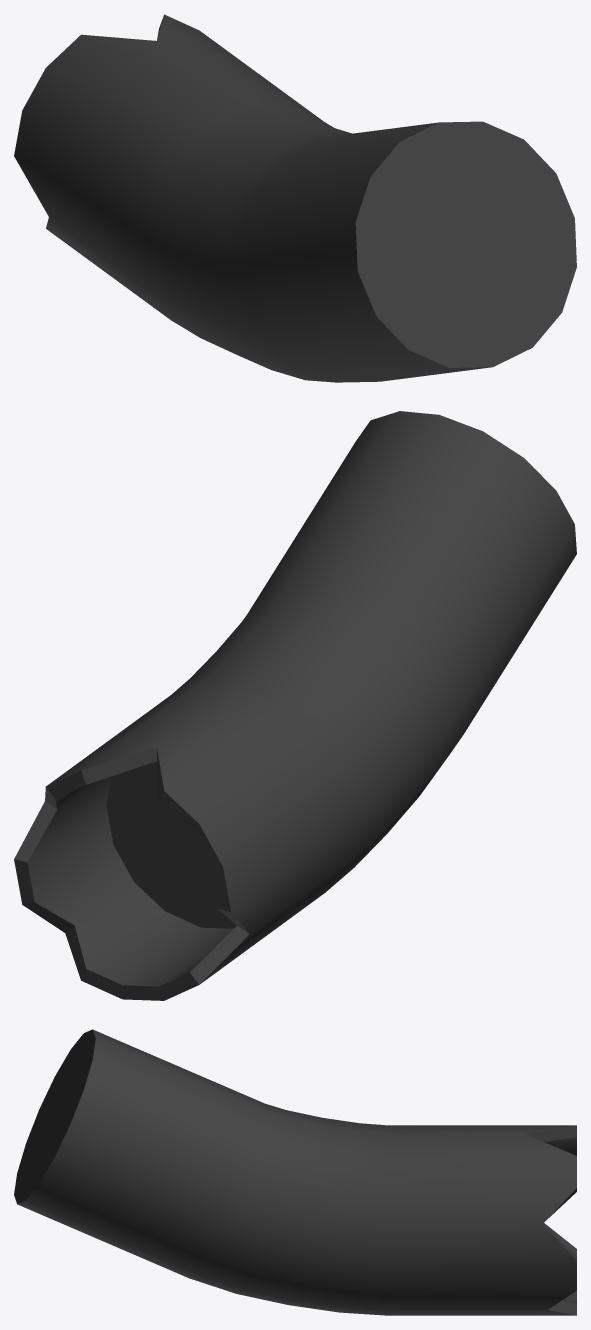
File: Broken180DPipe.fbx
3 views of the same model, one above another, from view 1: azimuth 30°, elevation 25°; view 2: azimuth 150°, elevation 25°; view 3: azimuth 270°, elevation 25° (orthographic). The views are drawn at different scales.
Visible parts, largest first — view 1: BrokenObtusePipe; view 2: BrokenObtusePipe; view 3: BrokenObtusePipe.
Part boxes in pixels (box(x1,y1,x2,y2)): BrokenObtusePipe: box(14, 14, 576, 382); BrokenObtusePipe: box(14, 411, 576, 1000); BrokenObtusePipe: box(14, 1029, 576, 1315).
Size of the model in its own units: 200 by 310 by 591.
